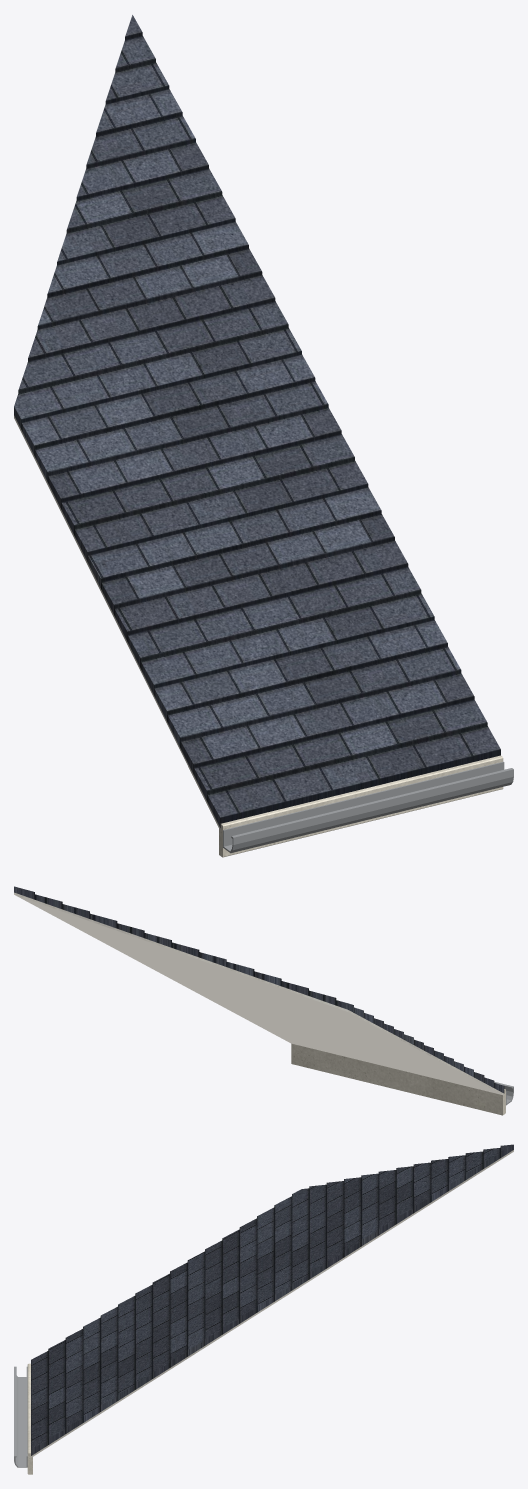
Rendered from roof_main_4_l.glb.
The picture shows the model from 3 angles, top to bottom: view 1: azimuth 30°, elevation 25°; view 2: azimuth 150°, elevation 25°; view 3: azimuth 270°, elevation 25°; orthographic projection. The views are drawn at different scales.
Parts seen in each view (by area): view 1: roof_main_4_l_shingles, roof_main_4_l_gutter, roof_main_4_l_trim, roof_main_4_l_plaster; view 2: roof_main_4_l_plaster, roof_main_4_l_trim, roof_main_4_l_shingles; view 3: roof_main_4_l_shingles, roof_main_4_l_gutter, roof_main_4_l_plaster, roof_main_4_l_trim.
Boxes of the visible parts, <box> form: roof_main_4_l_shingles: <box>14,15,500,827</box>; roof_main_4_l_gutter: <box>223,761,513,853</box>; roof_main_4_l_trim: <box>219,755,503,857</box>; roof_main_4_l_plaster: <box>14,415,220,830</box>; roof_main_4_l_plaster: <box>14,892,504,1095</box>; roof_main_4_l_trim: <box>291,1043,505,1115</box>; roof_main_4_l_shingles: <box>14,886,504,1093</box>; roof_main_4_l_shingles: <box>31,1144,513,1455</box>; roof_main_4_l_gutter: <box>14,1366,27,1467</box>; roof_main_4_l_plaster: <box>31,1150,513,1457</box>; roof_main_4_l_trim: <box>27,1363,32,1474</box>.
Size of the model in its own units: 2 by 3.43 by 4.71.
Materials: 4 (3 with a texture image).
